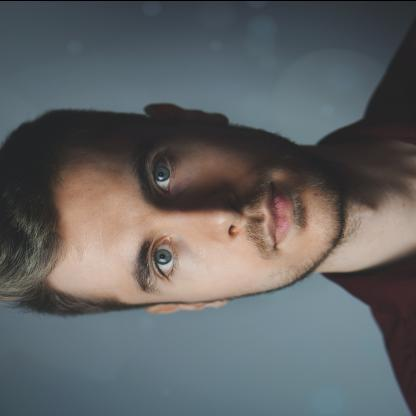Eye: (144, 230, 184, 288), (144, 150, 178, 196)
Mouth: (256, 178, 302, 252)
Nose: (163, 188, 249, 240)
